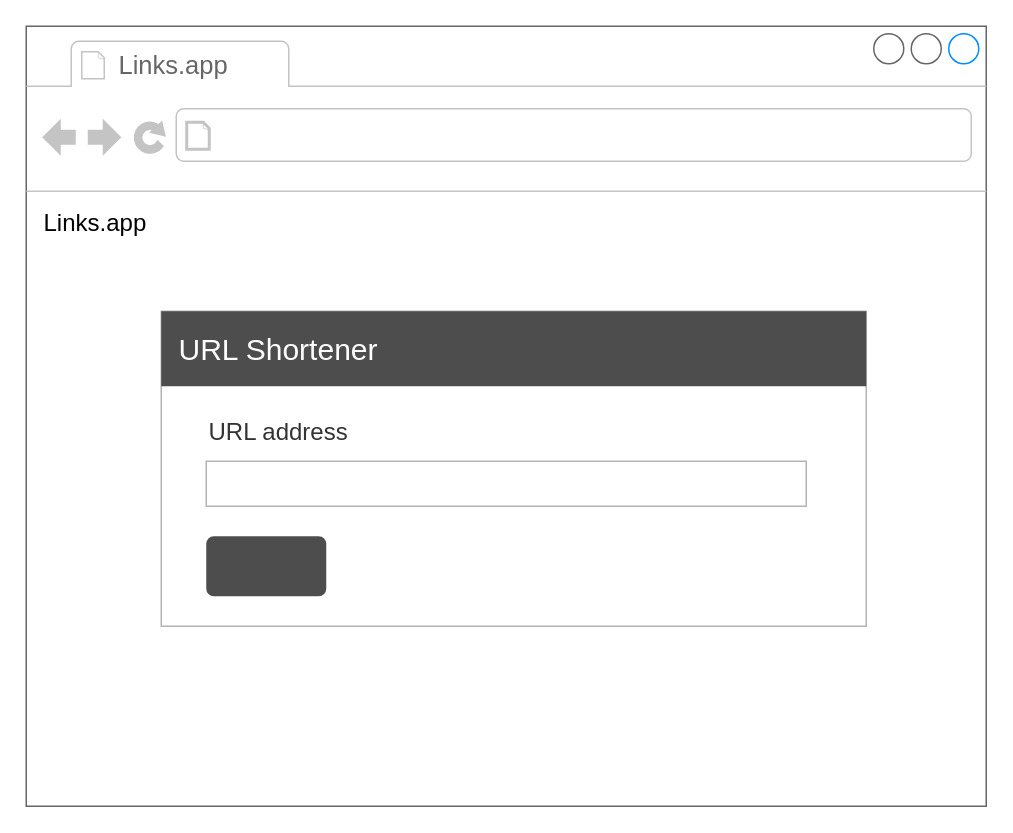
This 1013x833 diagram has some shape labels left out. Here are the shapes that lost their labels. From the top down, the centre of each, then its label:
pixel 408 135: https://links.app/
pixel 266 566: Shorten
